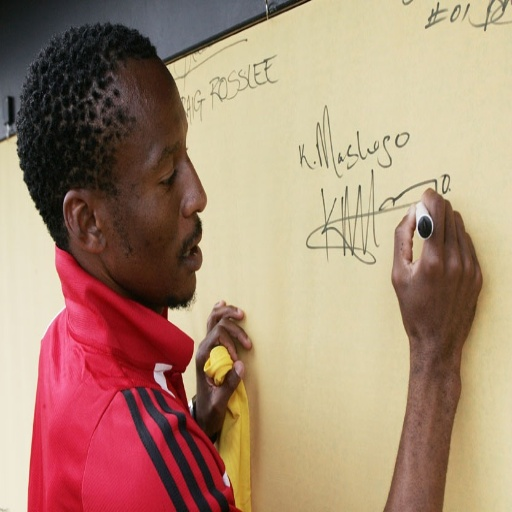hand: (385, 177, 492, 454), (194, 298, 253, 444)
